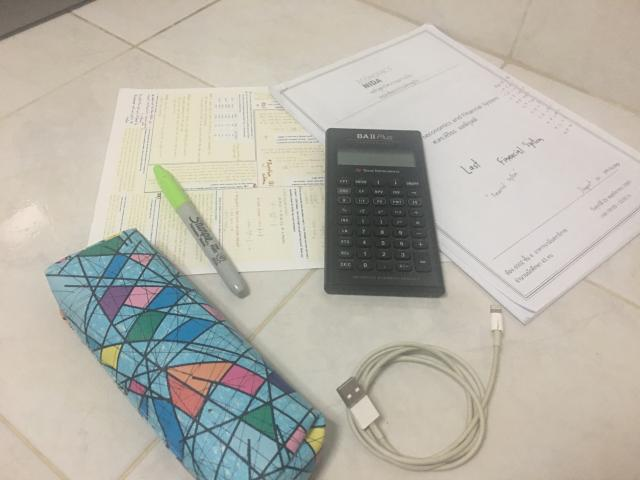Pen: (154, 165, 248, 298)
paper: (270, 25, 640, 324), (79, 88, 325, 281)
wire: (338, 305, 502, 471)
